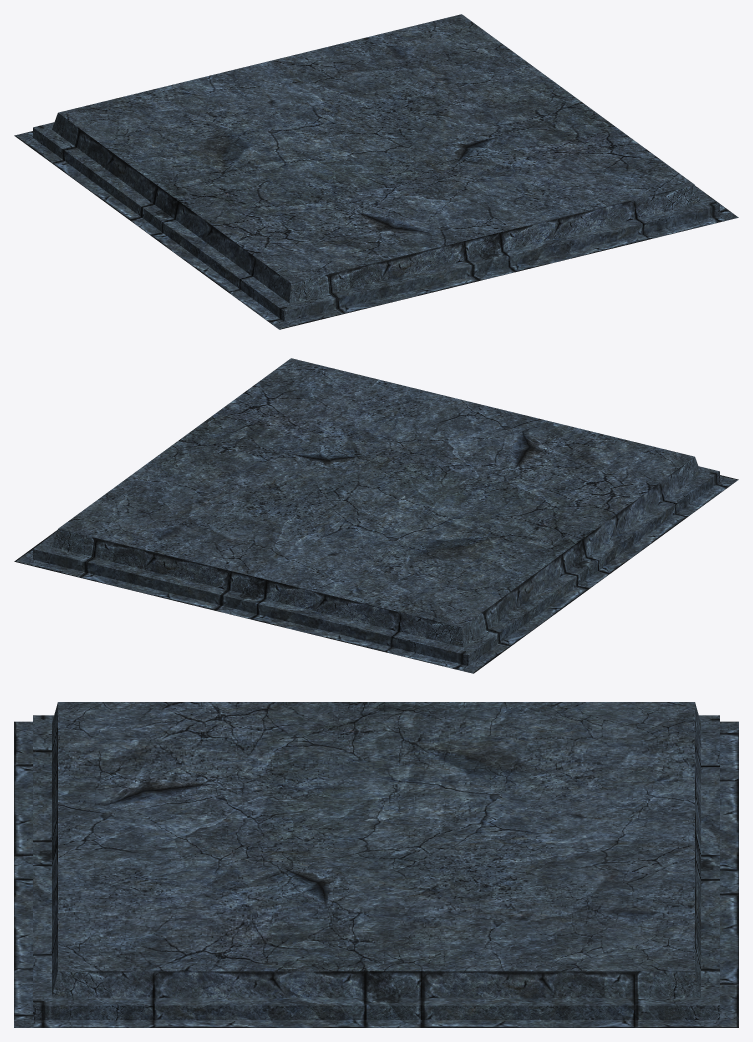
The model's file is Roof_2.FBX.
3 renders of one model, top to bottom at view 1: azimuth 30°, elevation 25°; view 2: azimuth 150°, elevation 25°; view 3: azimuth 270°, elevation 25°, orthographic. The views are drawn at different scales.
Parts seen in each view (by area): view 1: Roof_2; view 2: Roof_2; view 3: Roof_2.
Part boxes in pixels (x1,y1,x2,y2): Roof_2: (14, 14, 738, 329); Roof_2: (14, 358, 738, 673); Roof_2: (14, 702, 738, 1027).
Size of the model in its own units: 91.85 by 5.33 by 91.85.
